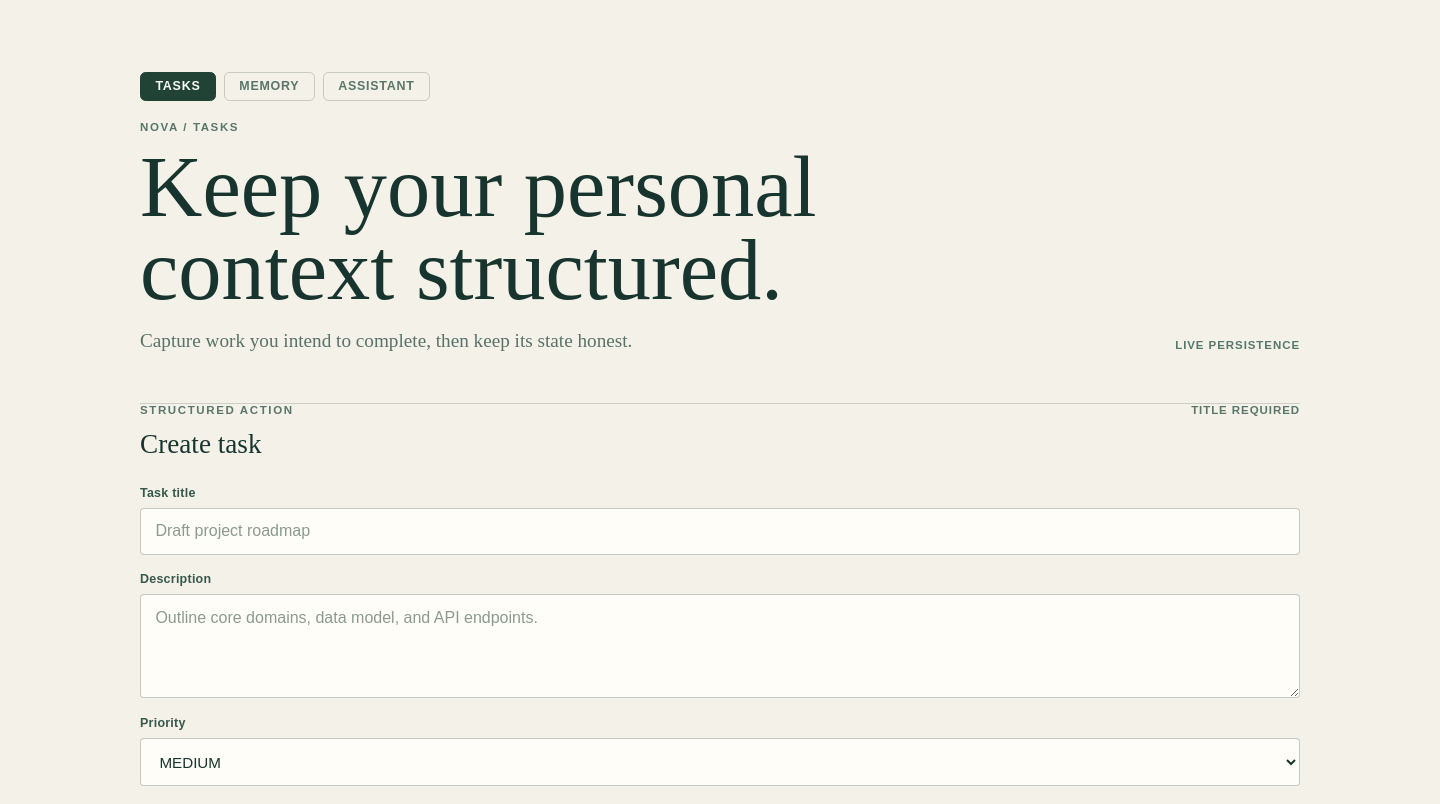
task workspace › shows memory loading, empty, and error states
Click the button "Memory". click: [269, 86]
box: [224, 72, 315, 101]
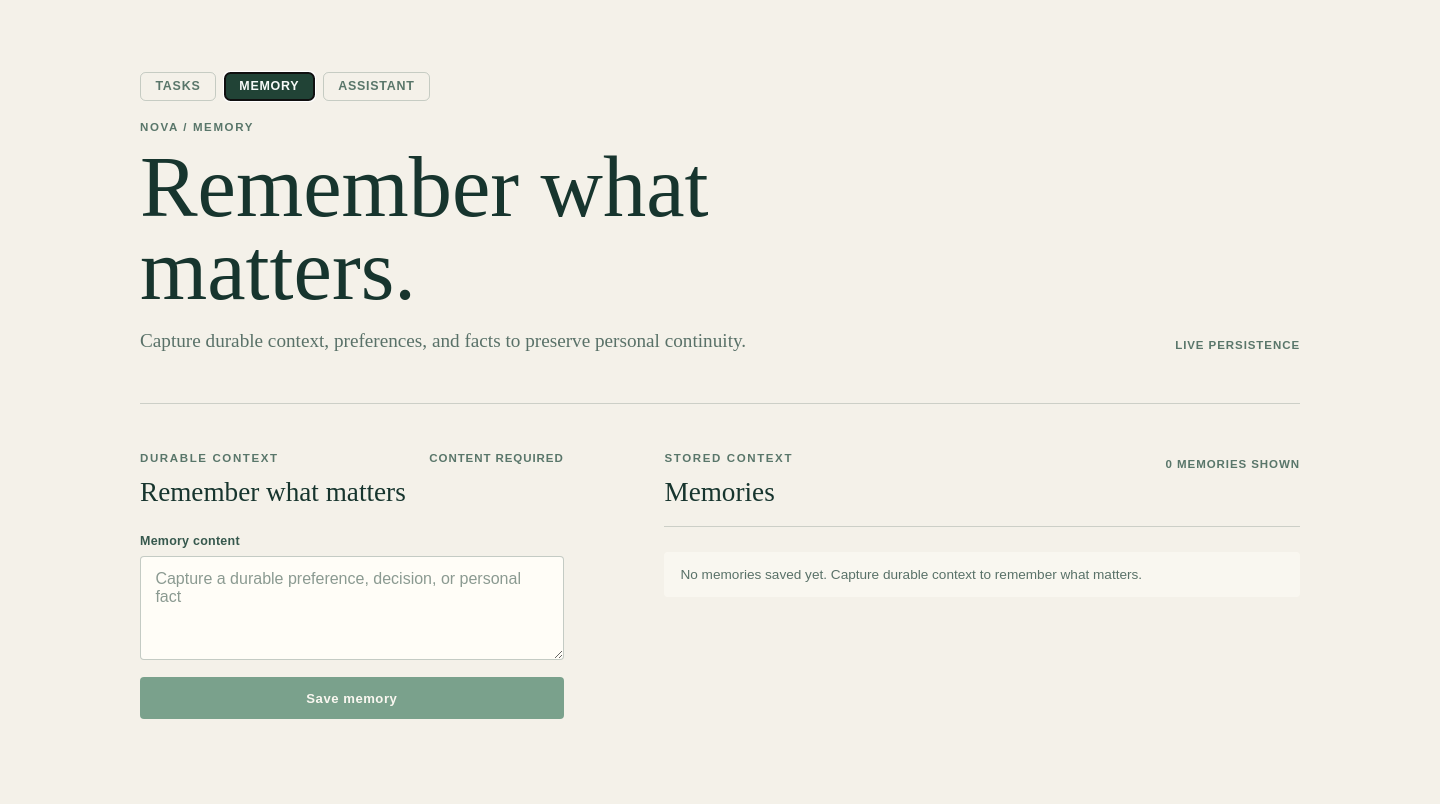
Expected: the text "No memories saved yet. Capture durable context to remember what matters." is shown, [664, 552, 1300, 597]
Expected: the text "0 memories shown" is shown, [1166, 452, 1300, 470]
